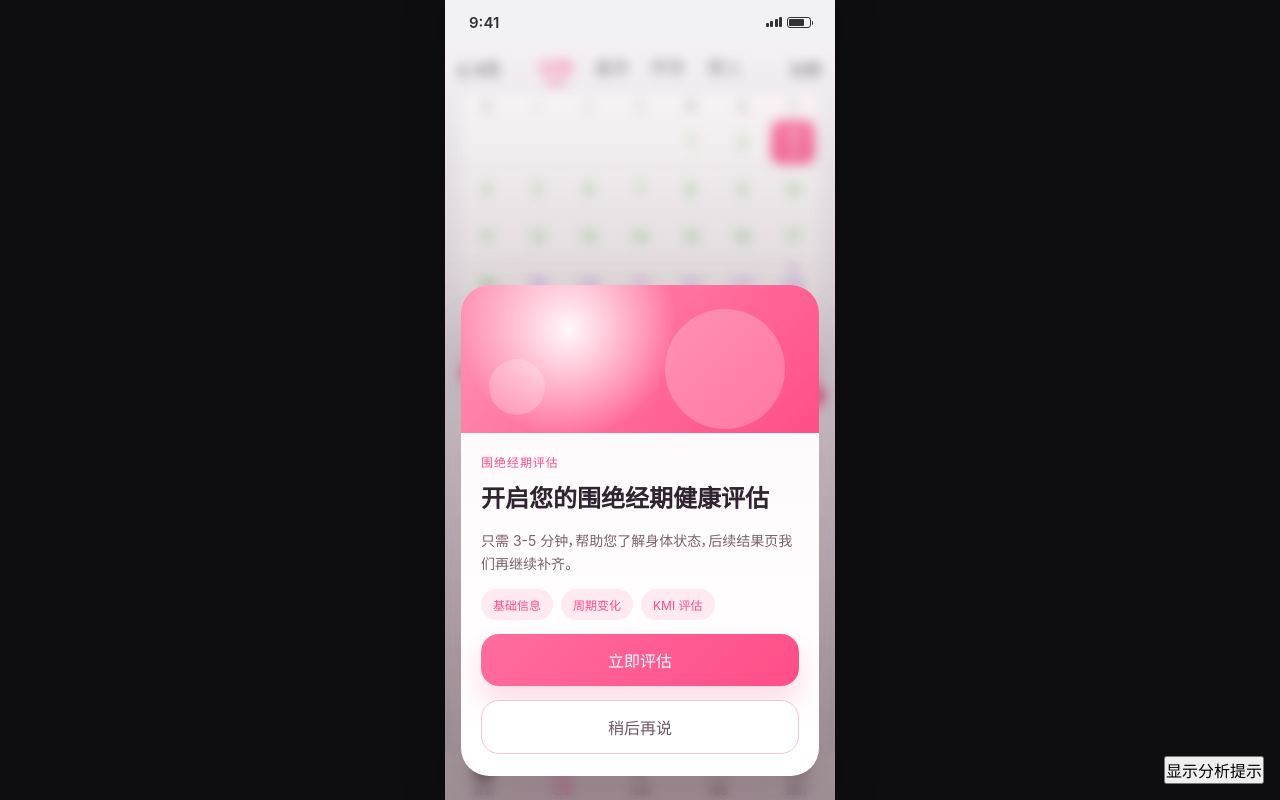
Test case: scene1 routing › navigates from the prototype analysis notice to the record detail page
Click the button "稍后再说" at (640, 727), box [481,700,799,754]
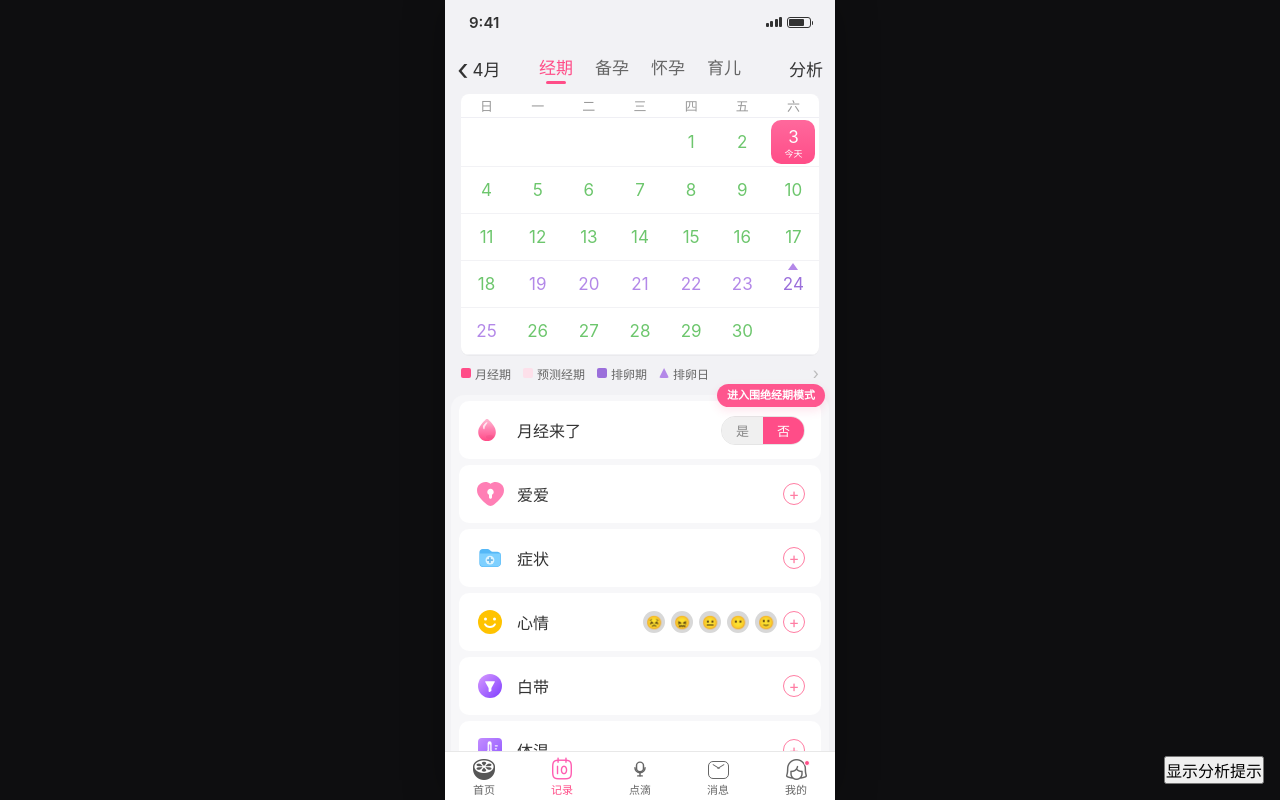
Click the button "是" at (742, 430), box [722,416,763,444]
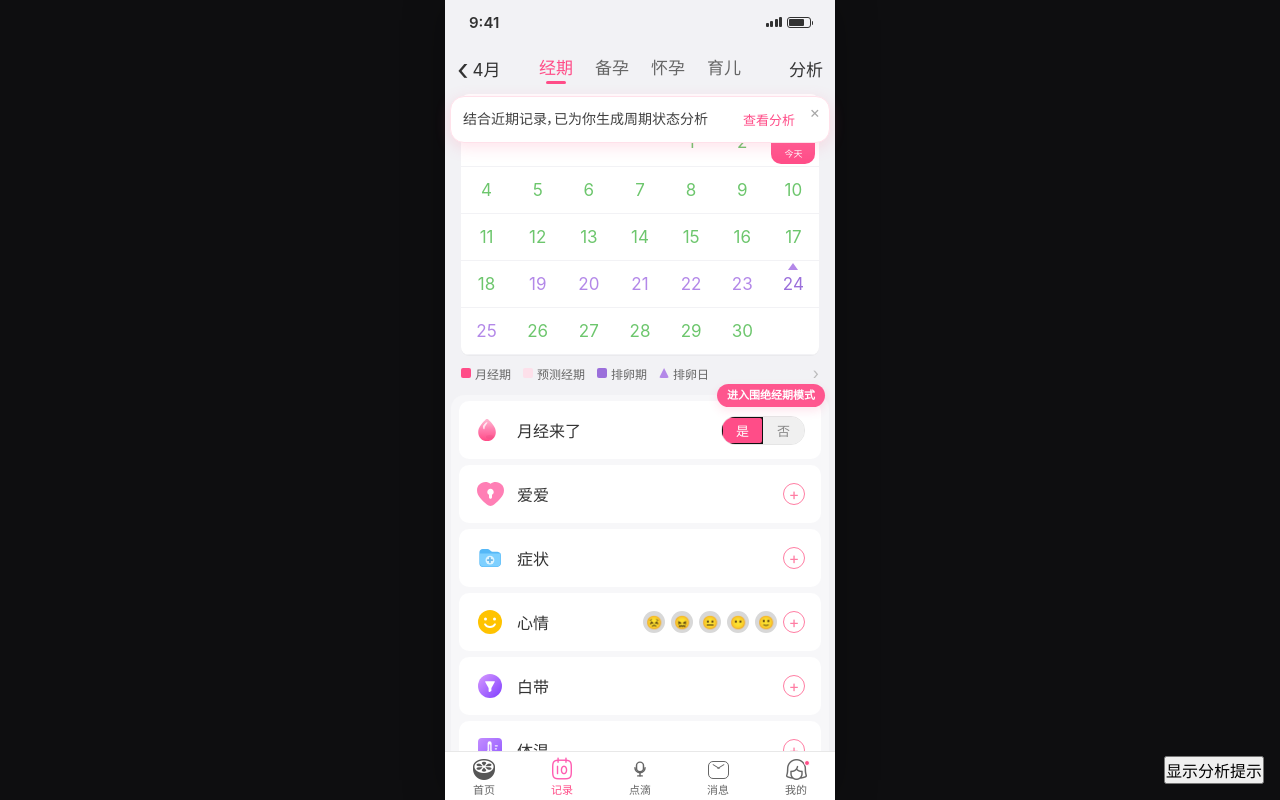
Click the button "查看分析" at (769, 119), box [743,110,795,129]
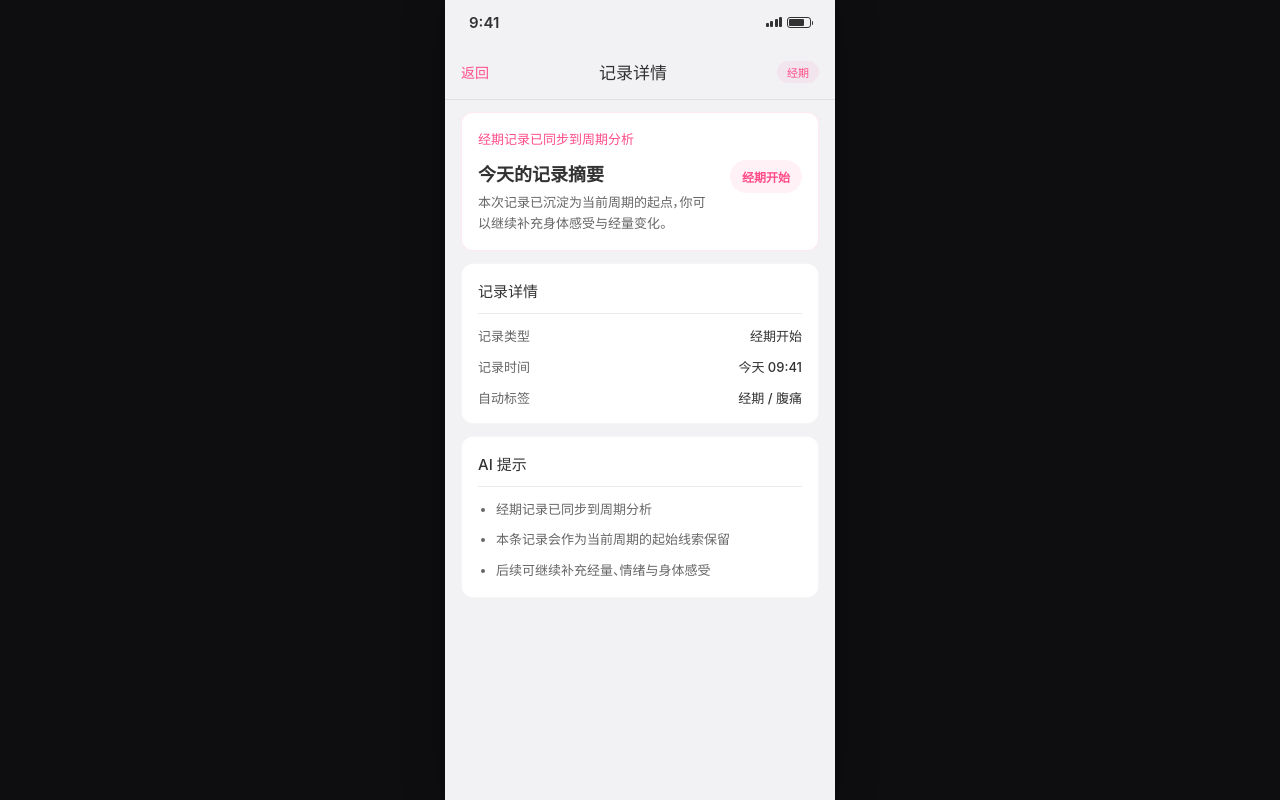
Expected: the 1st heading "记录详情" is shown, [599,59,667,84]
Expected: the text "经期记录已同步到周期分析" is shown, [478,131,634,147]
